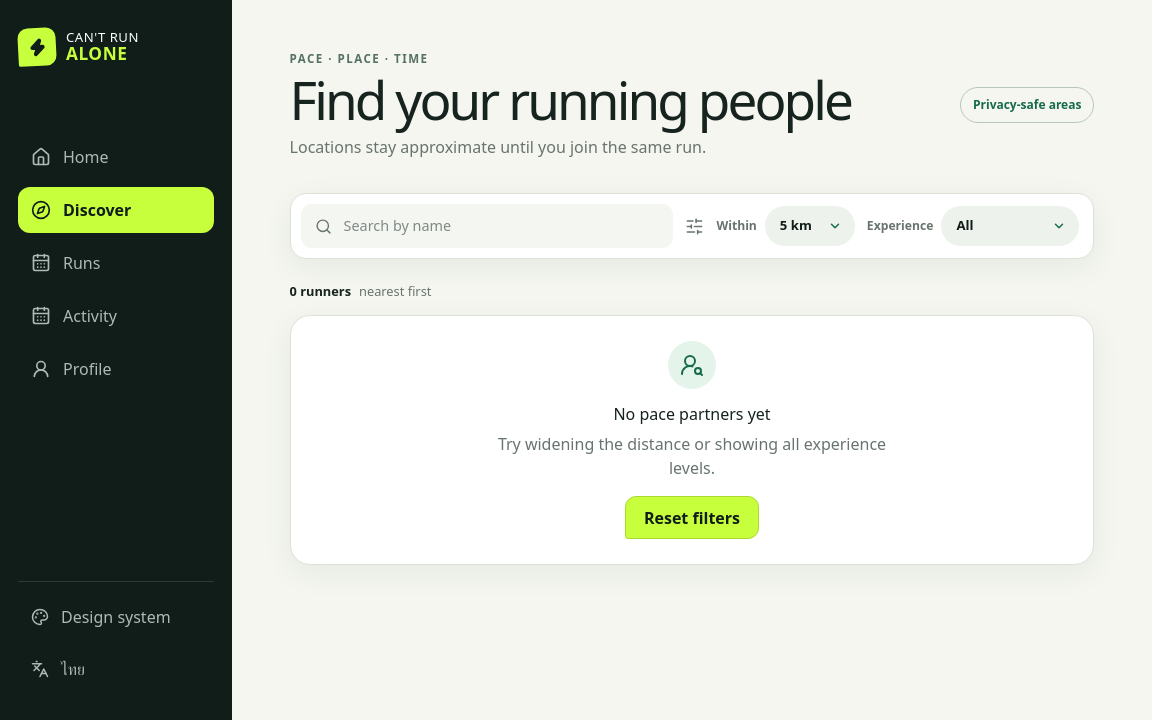
it: core frontend flows › changes the visible navigation language
Click the button "ไทย": (116, 669) [18,646,214,692]
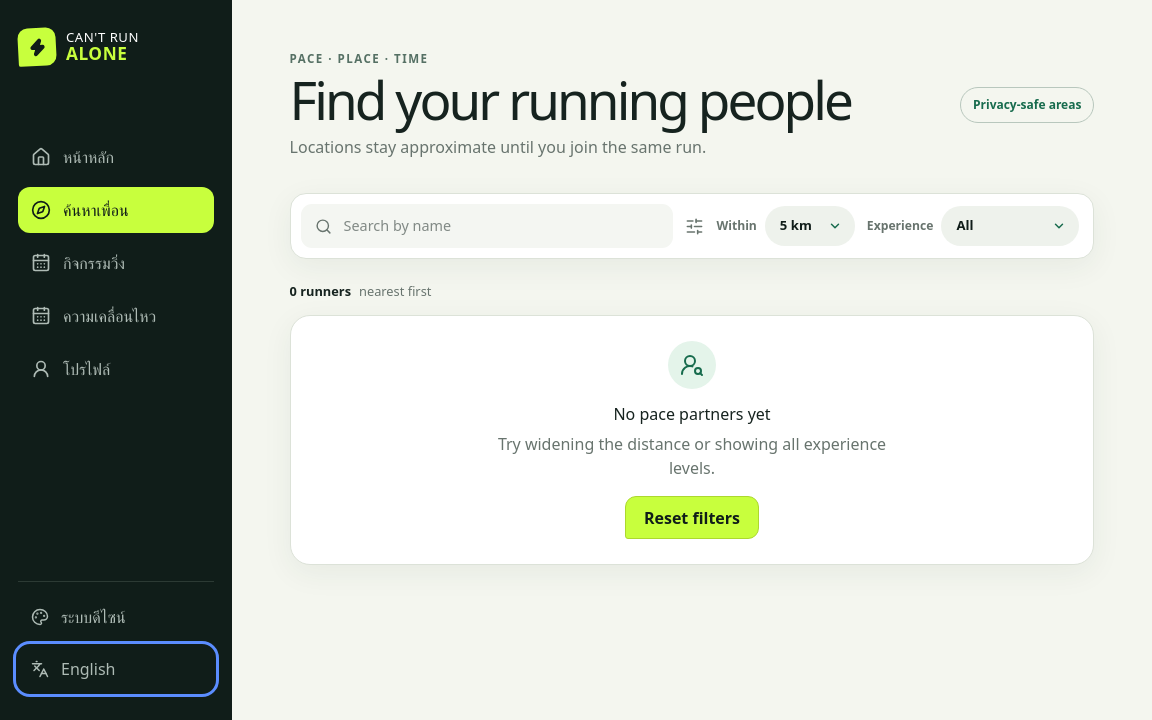
Expected: the text "หน้าหลัก" is shown, [63,145,114,169]
